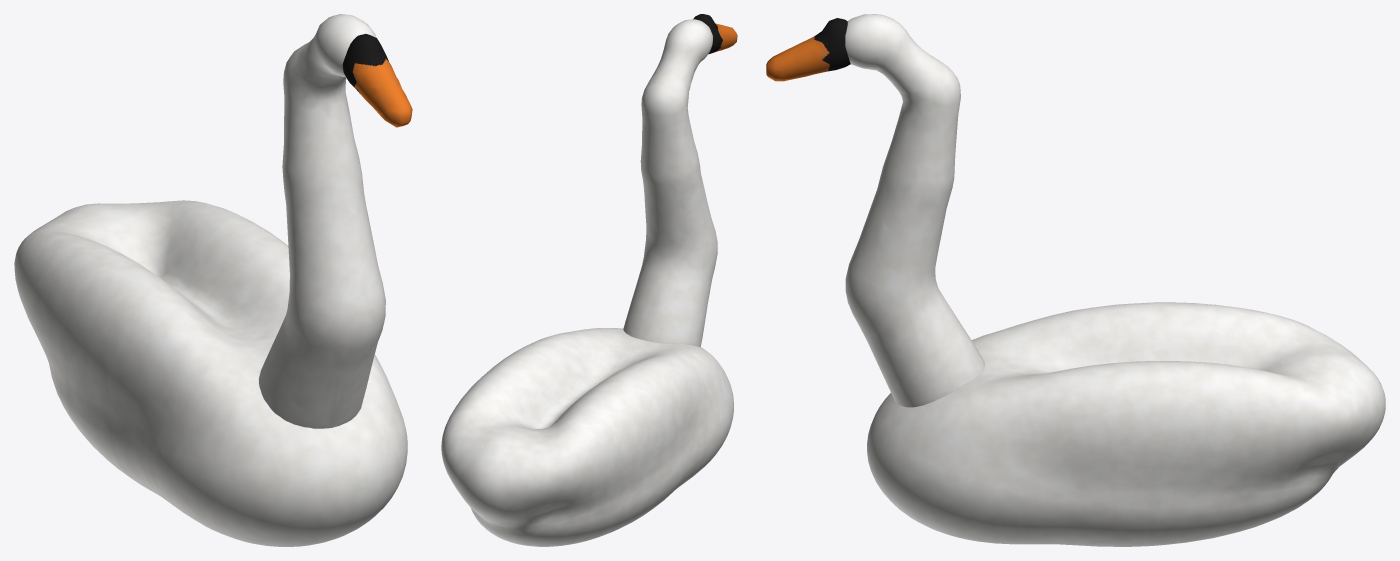
Rendered from animal_swan.glb.
3 renders of one model, left to right at view 1: azimuth 30°, elevation 25°; view 2: azimuth 150°, elevation 25°; view 3: azimuth 270°, elevation 25°, orthographic. The views are drawn at different scales.
Visible parts, largest first — view 1: animal_swan, head; view 2: animal_swan, head; view 3: animal_swan, head.
Boxes of the visible parts, bbox=[...] form: animal_swan: bbox=[14, 200, 407, 546]; head: bbox=[259, 14, 412, 428]; animal_swan: bbox=[441, 328, 733, 546]; head: bbox=[623, 14, 737, 347]; animal_swan: bbox=[867, 302, 1385, 546]; head: bbox=[766, 14, 984, 407].
Bounding box in the file's own units: 0.1555 × 0.3681 × 0.4006.
Materials: 1 (1 with a texture image).
